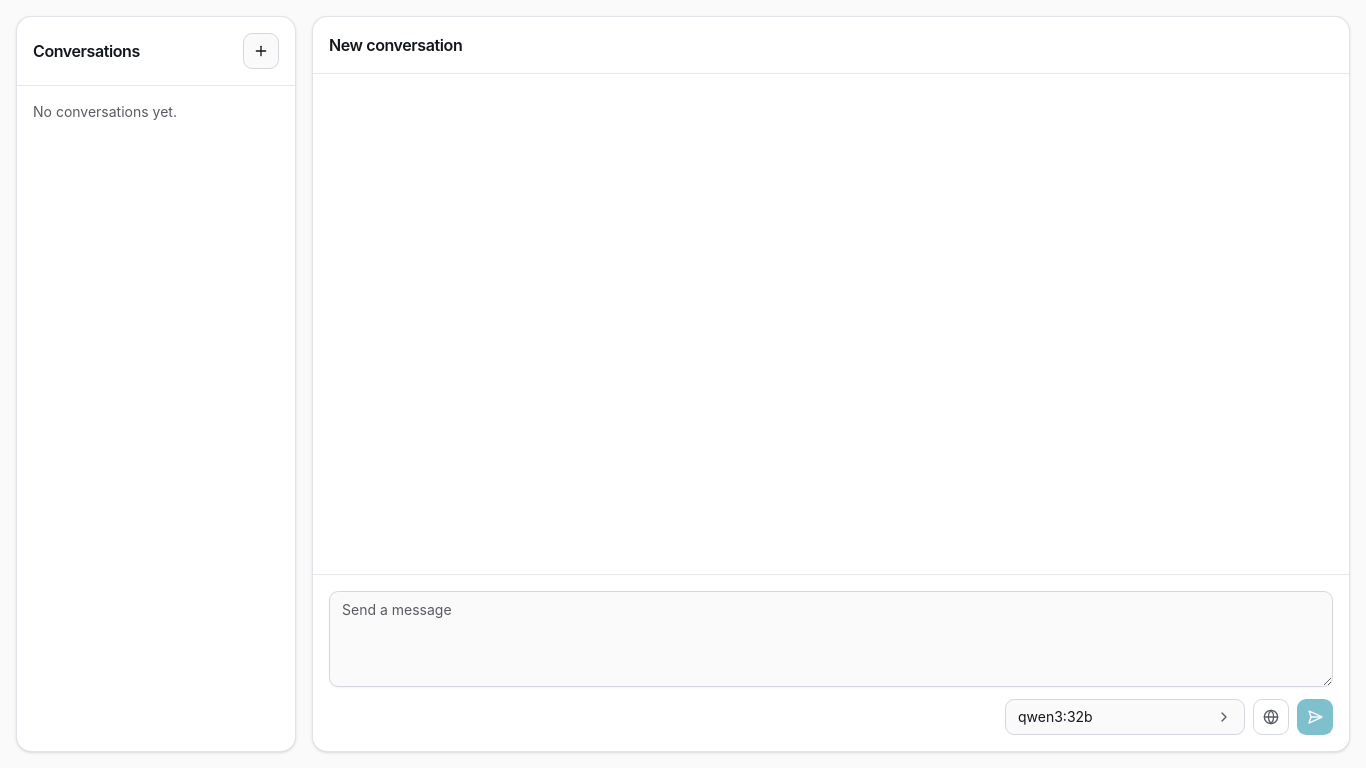
Scenario: ChatModule › surfaces stream error event in message area and error banner
Type "Trigger error" into the text box with placeholder "Send a message" at (831, 639), box [329,591,1333,687]
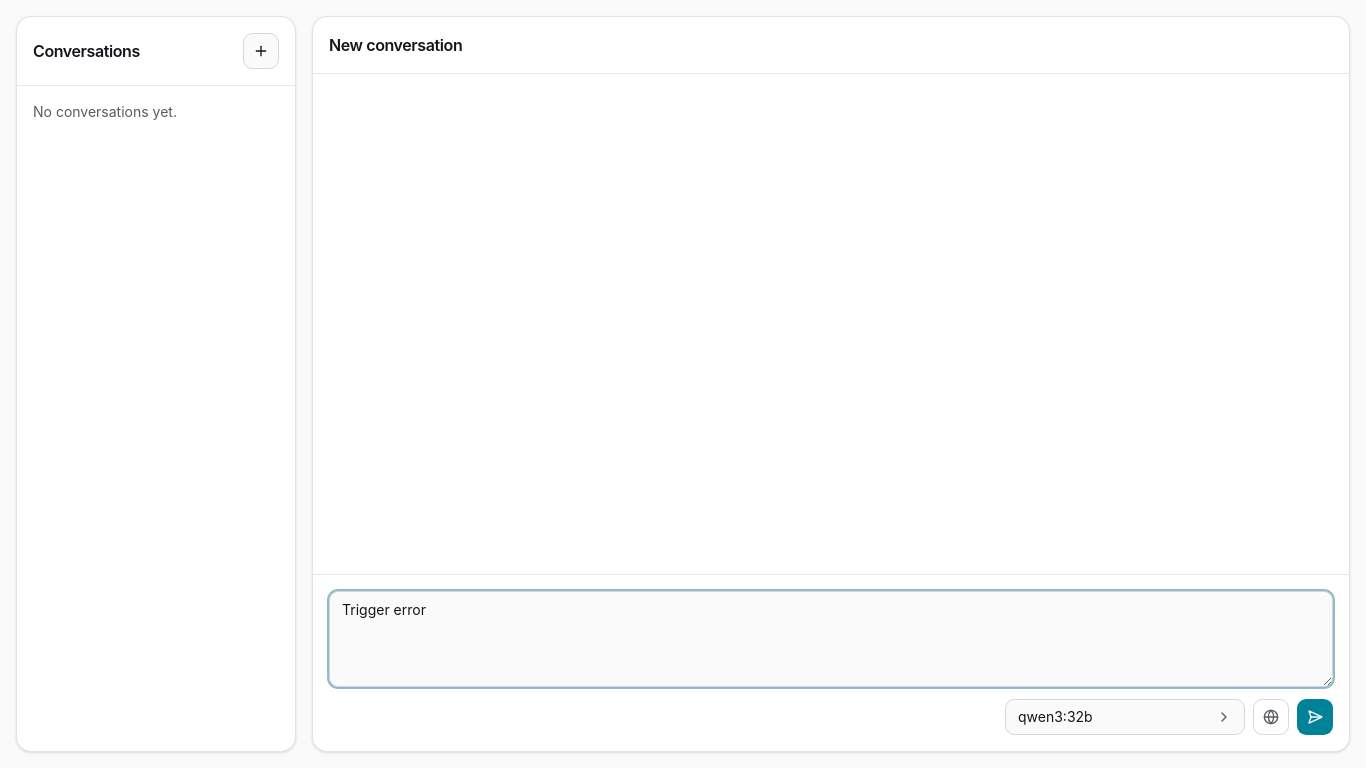
Click the button named "Send message" at (1315, 717), box [1297,699,1333,735]
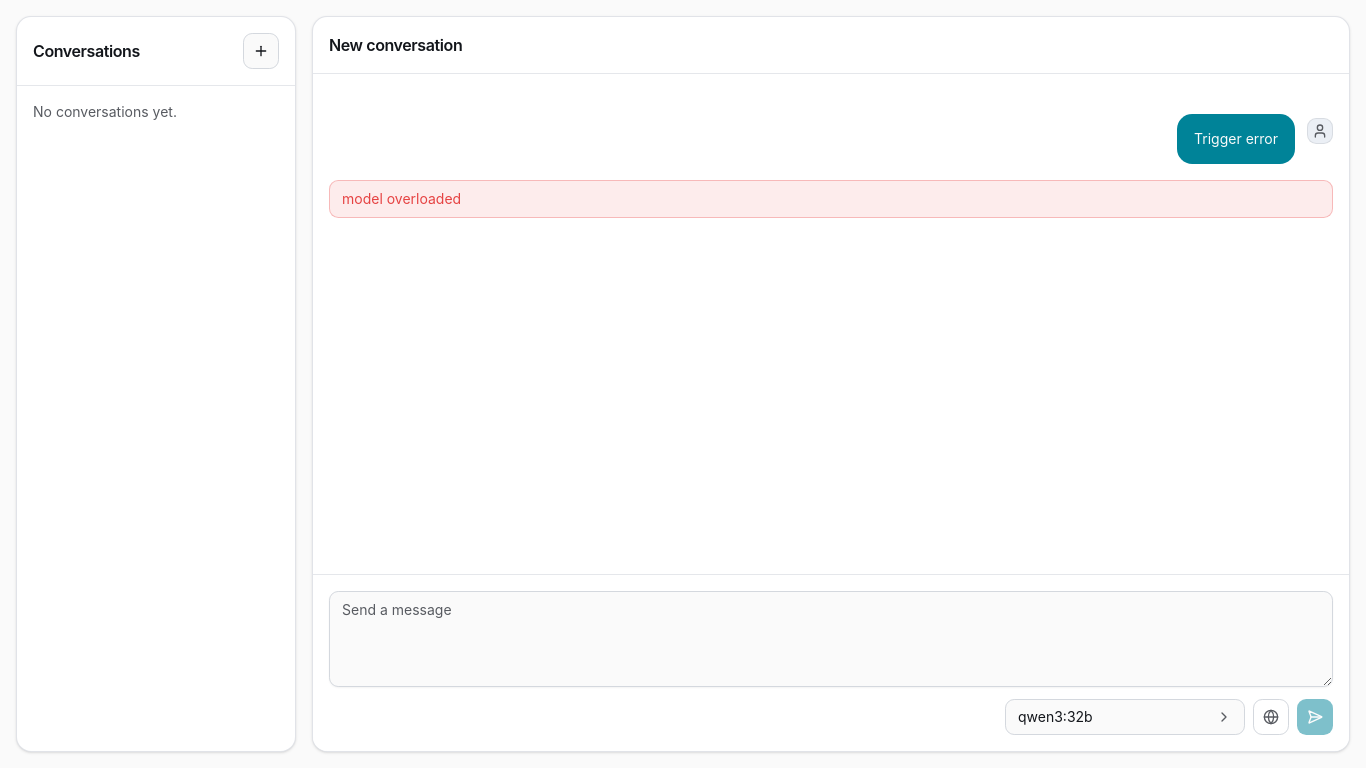
Check: the text "model overloaded" is shown, box [329,180,1333,218]
